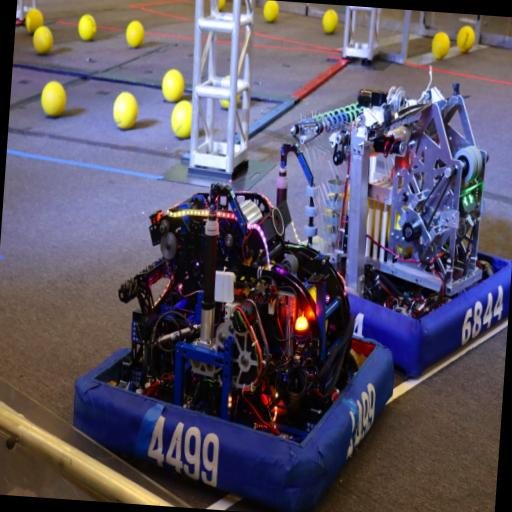robot: (63, 172, 404, 508), (263, 70, 512, 382)
